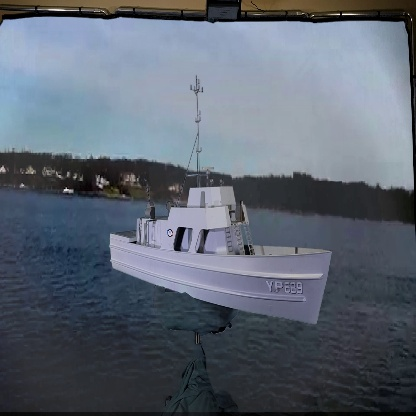YP689: (108, 84, 334, 326)
